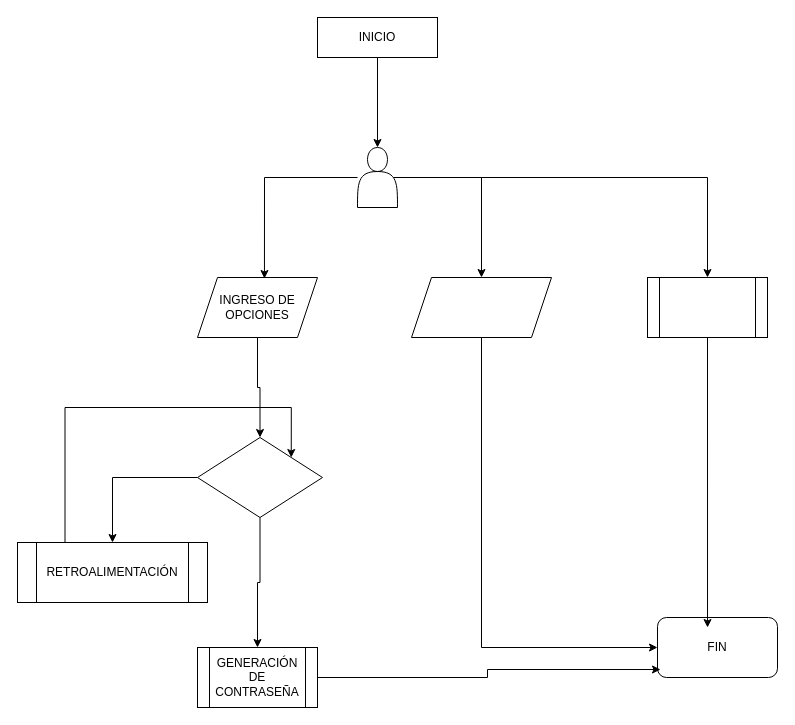
Some shapes in this 795 by 725 pixel diagram are drawn without their labels. Each missing label, with the centre of its shape:
ALEATORIEDAD DE CONTRESEÑA: the point at 481,307
ERROR: the point at 707,307
VALIDACIÓN DE OPCIONES: the point at 259,477
